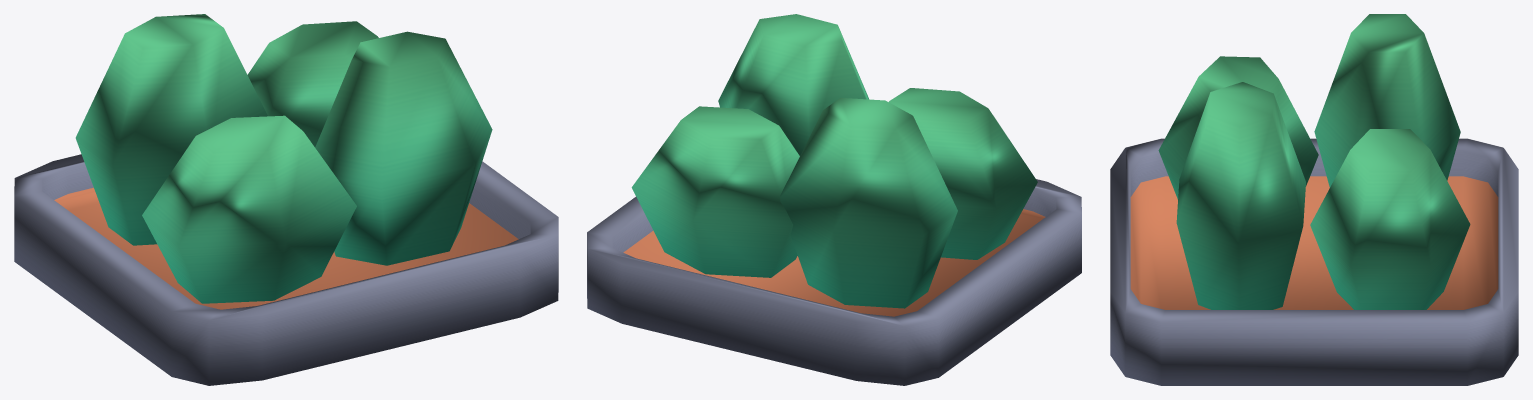
Rendered from planter_lev1.001.glb.
The picture shows the model from 3 angles, left to right: view 1: azimuth 30°, elevation 25°; view 2: azimuth 150°, elevation 25°; view 3: azimuth 270°, elevation 25°; orthographic projection. The views are drawn at different scales.
Visible parts, largest first — view 1: planter_lev1.001; view 2: planter_lev1.001; view 3: planter_lev1.001.
Part boxes in pixels (x1,y1,x2,y2): planter_lev1.001: (14, 14, 558, 385); planter_lev1.001: (587, 14, 1081, 385); planter_lev1.001: (1110, 14, 1518, 385).
Bounding box in the file's own units: 2.32 × 1.33 × 2.18.
1 material, 1 textured.
